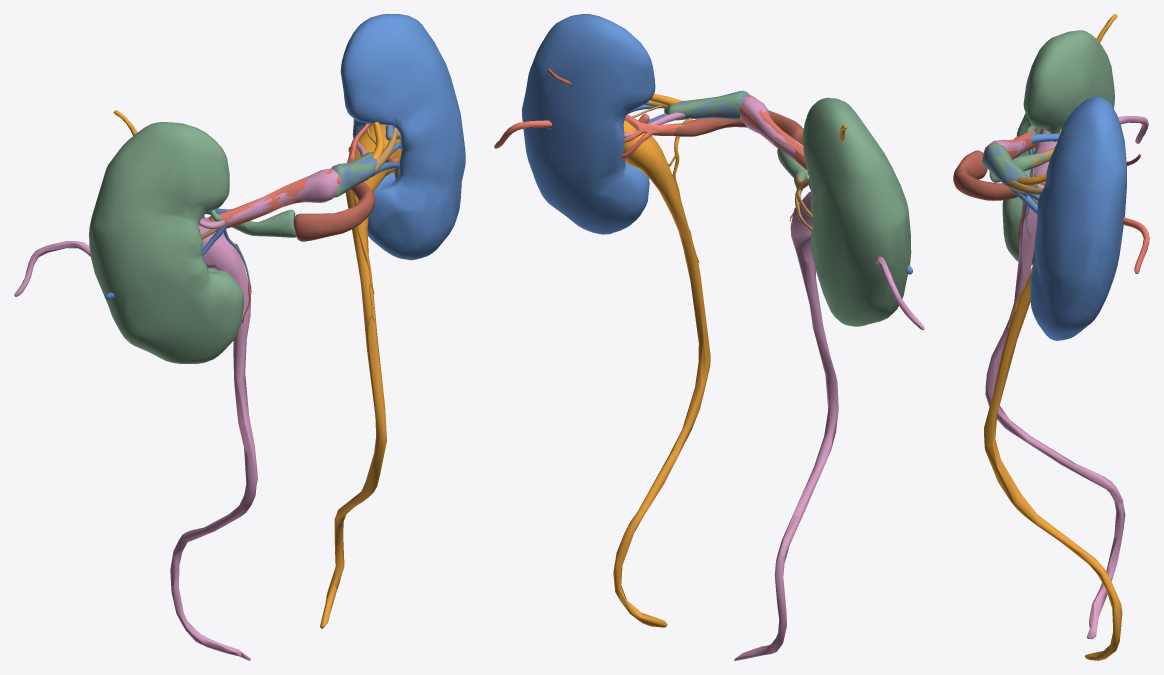
The model's file is kidneys.glb.
3 views of the same model, side by side, from view 1: azimuth 30°, elevation 25°; view 2: azimuth 150°, elevation 25°; view 3: azimuth 270°, elevation 25° (orthographic).
Visible parts, largest first — view 1: Right kidney, Left kidney, Right ureter, Left ureter, Left renal vein, Trunk of right renal artery, Right renal artery, Right renal vein, Posterior segmental branch of right renal artery, Trunk of left renal artery; view 2: Left kidney, Right kidney, Left ureter, Right ureter, Left renal vein (×2), Trunk of right renal artery, Left renal artery, Right renal artery, Trunk of left renal artery; view 3: Left kidney, Right kidney, Right ureter, Left ureter, Left renal vein, Trunk of left renal artery, Left renal artery, Posterior segmental branch of left renal artery, Right renal vein, Right renal artery, Posterior segmental branch of right renal artery, Trunk of right renal artery.
Boxes of the visible parts, <box> form: Right kidney: <box>89,122,244,363</box>; Left kidney: <box>340,14,465,260</box>; Right ureter: <box>170,217,257,660</box>; Left ureter: <box>320,124,401,628</box>; Left renal vein: <box>294,157,375,241</box>; Trunk of right renal artery: <box>224,168,338,223</box>; Right renal artery: <box>211,169,341,229</box>; Right renal vein: <box>232,209,296,237</box>; Posterior segmental branch of right renal artery: <box>14,241,90,296</box>; Trunk of left renal artery: <box>331,154,377,193</box>; Left kidney: <box>522,14,655,234</box>; Right kidney: <box>803,97,911,326</box>; Left ureter: <box>613,120,710,627</box>; Right ureter: <box>734,191,838,660</box>; Left renal vein (×2): <box>621,110,803,158</box>; Trunk of right renal artery: <box>740,95,803,159</box>; Left renal artery: <box>664,90,749,120</box>; Right renal artery: <box>740,95,806,170</box>; Trunk of left renal artery: <box>668,91,748,119</box>; Left kidney: <box>1030,96,1126,340</box>; Right kidney: <box>1002,30,1114,265</box>; Right ureter: <box>985,128,1125,639</box>; Left ureter: <box>984,273,1122,660</box>; Left renal vein: <box>953,150,1044,200</box>; Trunk of left renal artery: <box>982,143,1027,192</box>; Left renal artery: <box>982,143,1038,197</box>; Posterior segmental branch of left renal artery: <box>1122,217,1149,273</box>; Right renal vein: <box>989,153,1045,182</box>; Right renal artery: <box>984,131,1036,159</box>; Posterior segmental branch of right renal artery: <box>1118,116,1148,143</box>; Trunk of right renal artery: <box>982,136,1026,159</box>.
Bounding box in the file's own units: 1.47 × 2 × 0.5895.
